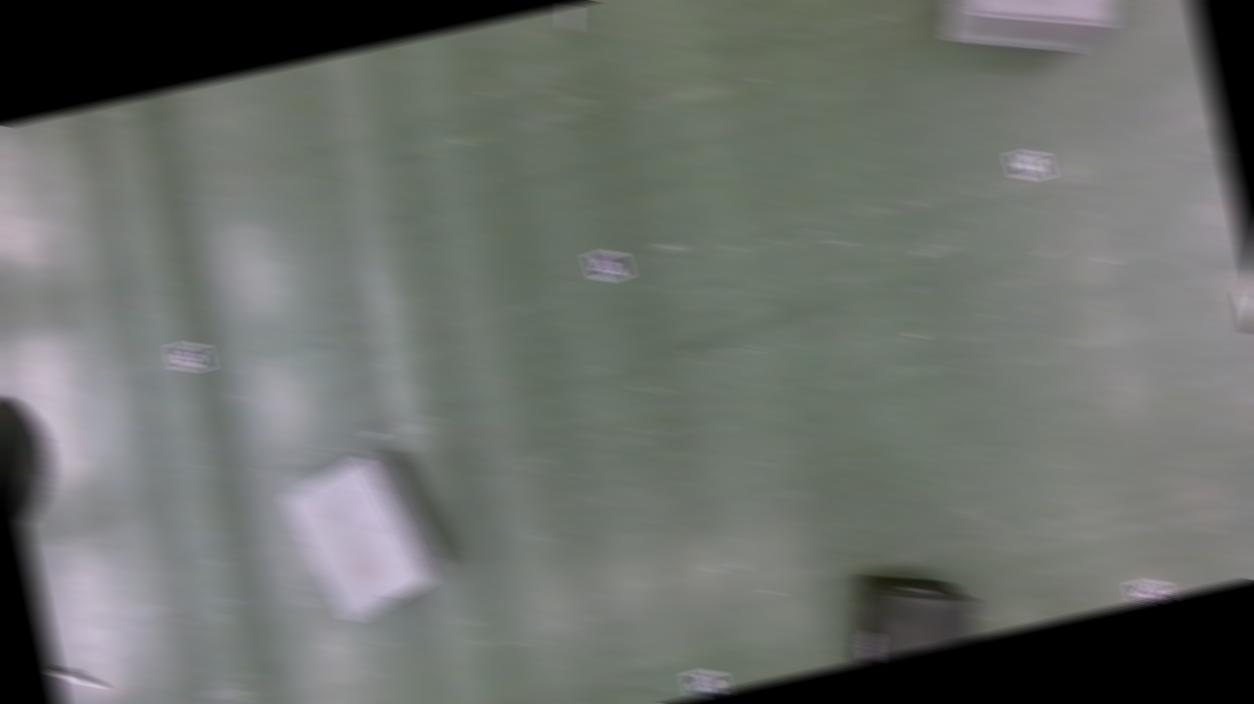probes: (49, 658, 105, 696), (558, 2, 588, 32), (1238, 286, 1254, 336)
rako: (833, 552, 989, 664)
